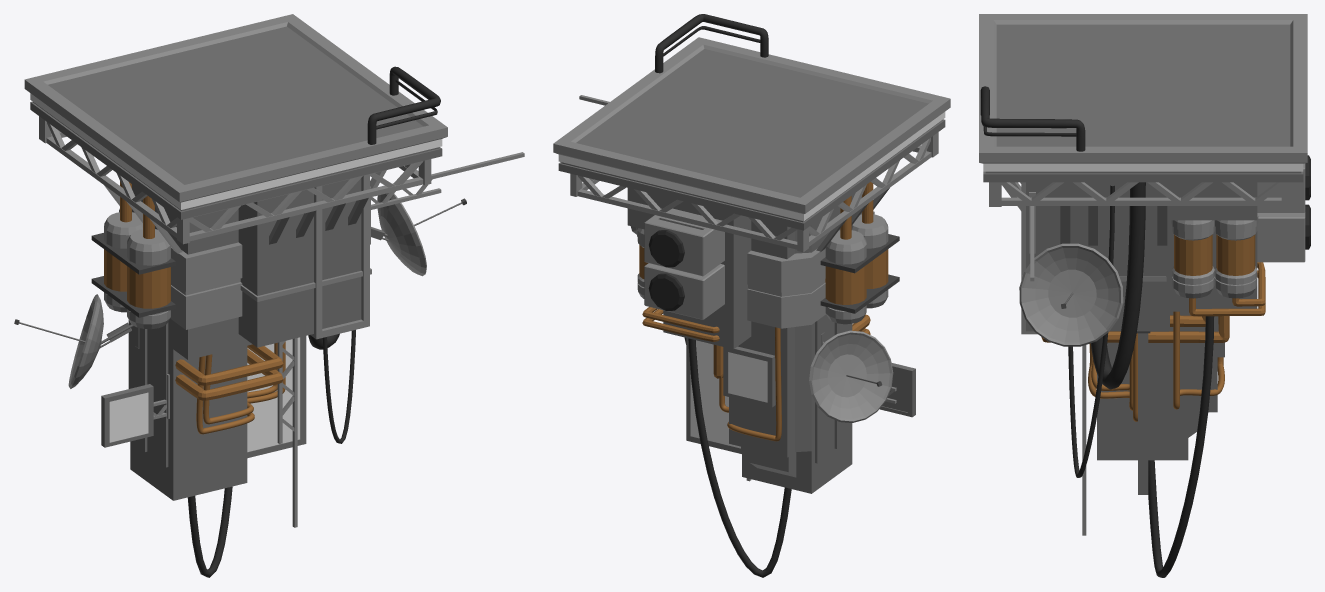
File: ScifiPlatform-01.glb
3 renders of one model, left to right at view 1: azimuth 30°, elevation 25°; view 2: azimuth 150°, elevation 25°; view 3: azimuth 270°, elevation 25°, orthographic. The views are drawn at different scales.
Parts seen in each view (by area): view 1: Platform_2x2; view 2: Platform_2x2; view 3: Platform_2x2.
Boxes of the visible parts, box(x1,y1,x2,y2) form: Platform_2x2: box(14, 14, 524, 577); Platform_2x2: box(553, 14, 950, 577); Platform_2x2: box(979, 14, 1310, 577).
Size of the model in its own units: 3.31 by 3.83 by 2.16.
